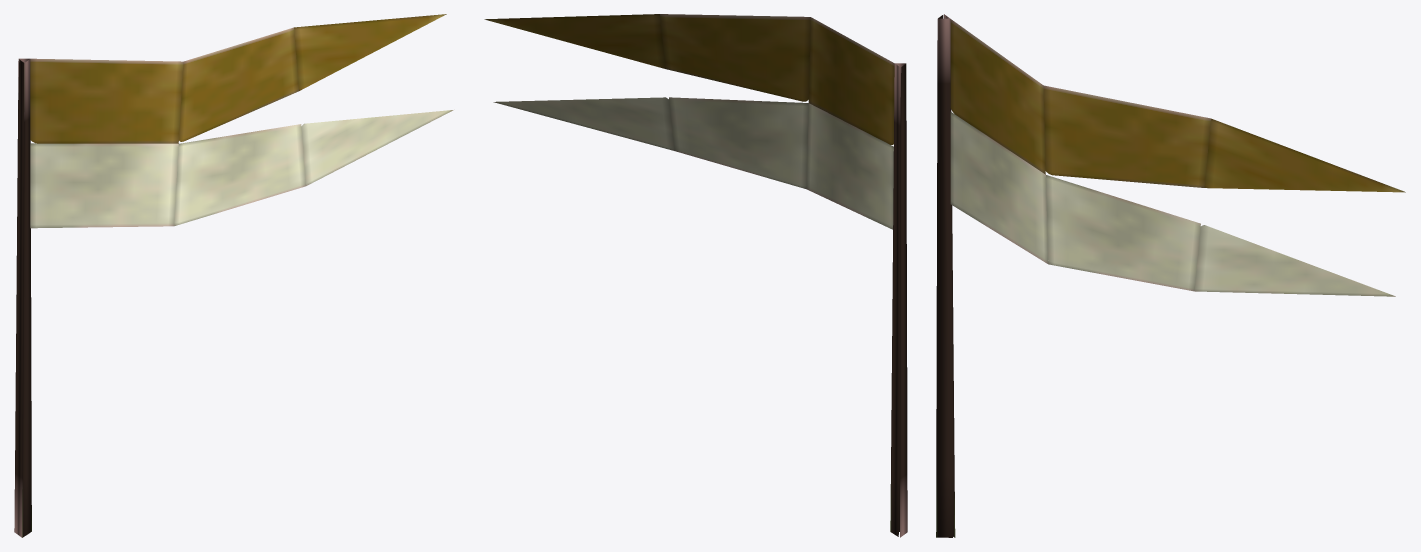
3 views of the same model, side by side, from view 1: azimuth 30°, elevation 25°; view 2: azimuth 150°, elevation 25°; view 3: azimuth 330°, elevation 25° (orthographic). The views are drawn at different scales.
Parts seen in each view (by area): view 1: T1L9M003_22; view 2: T1L9M003_22; view 3: T1L9M003_22.
Part boxes in pixels (bbox=[...]): T1L9M003_22: bbox=[14, 14, 453, 537]; T1L9M003_22: bbox=[484, 14, 907, 537]; T1L9M003_22: bbox=[936, 14, 1405, 537].
Bounding box in the file's own units: 1.73 × 1.83 × 0.2752.
